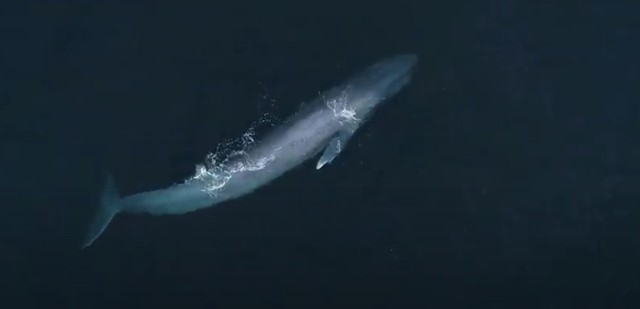whale: (66, 46, 425, 255)
